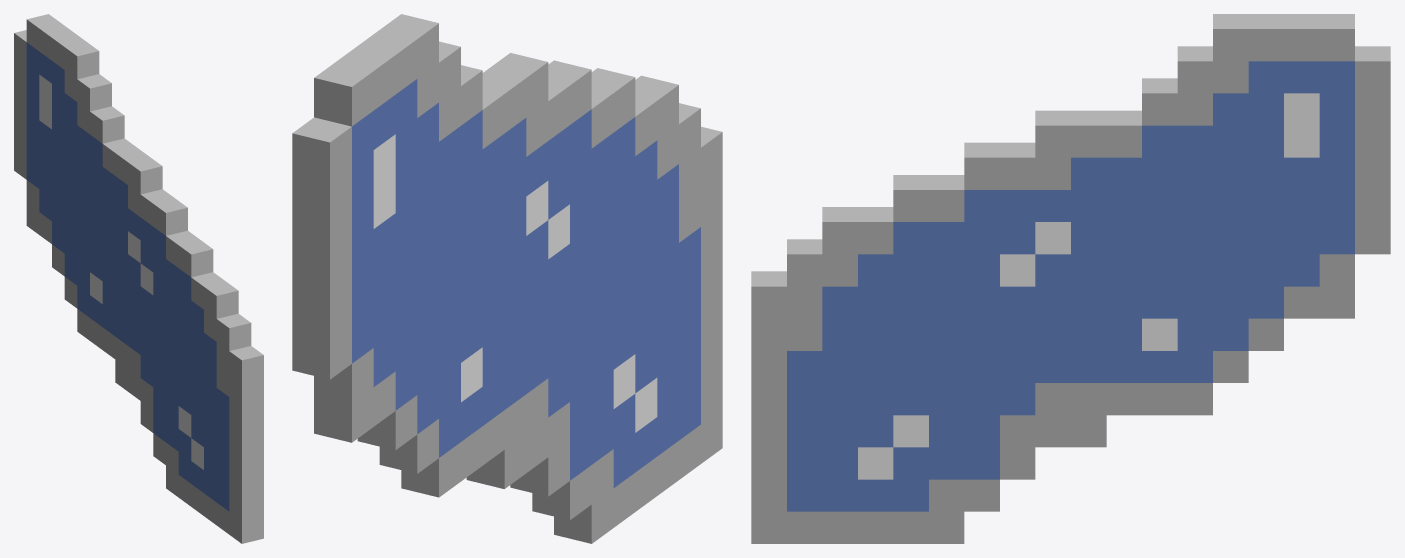
Rendered from Enemy-0.obj.
3 views of the same model, side by side, from view 1: azimuth 30°, elevation 25°; view 2: azimuth 150°, elevation 25°; view 3: azimuth 270°, elevation 25° (orthographic). The views are drawn at different scales.
Bounding box in the file's own units: 0.1 × 1.6 × 1.8.
Materials: 1 (1 with a texture image).
